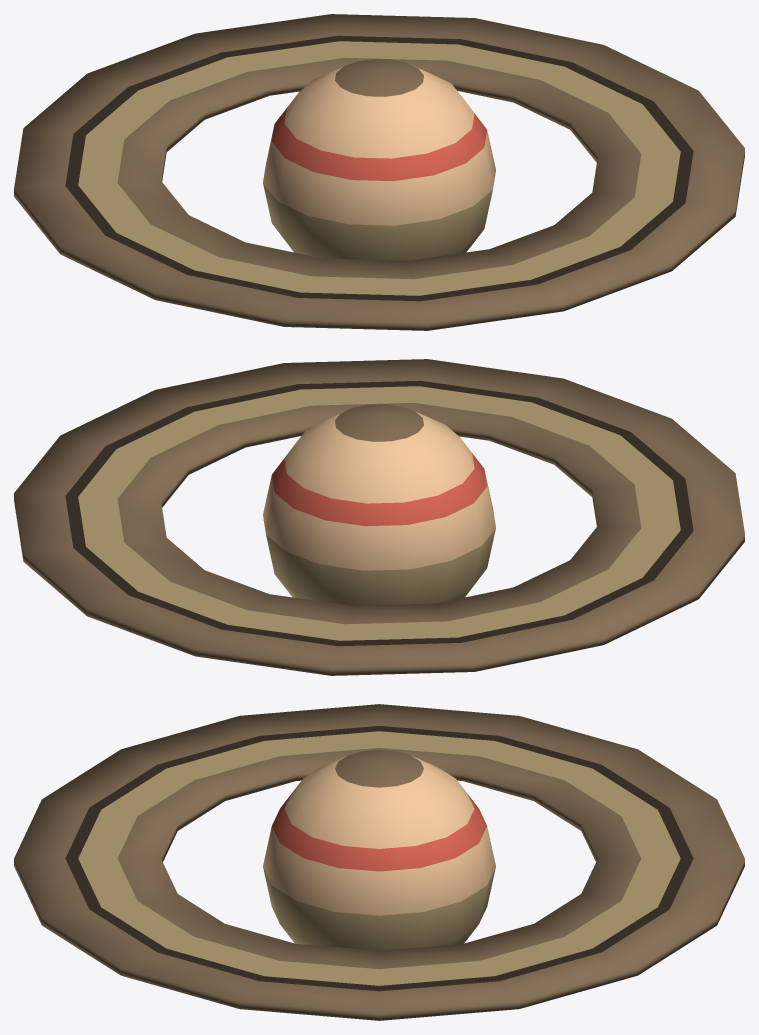
Rendered from 06_Saturno.gltf.
3 views of the same model, one above another, from view 1: azimuth 30°, elevation 25°; view 2: azimuth 150°, elevation 25°; view 3: azimuth 270°, elevation 25° (orthographic).
Visible parts, largest first — view 1: 06_Saturno; view 2: 06_Saturno; view 3: 06_Saturno.
Boxes of the visible parts, x1,y1,x2,y2 form: 06_Saturno: [14, 14, 744, 330]; 06_Saturno: [14, 359, 744, 675]; 06_Saturno: [14, 704, 744, 1020].
Bounding box in the file's own units: 2.4 × 0.7663 × 2.4.
Materials: 1 (1 with a texture image).
